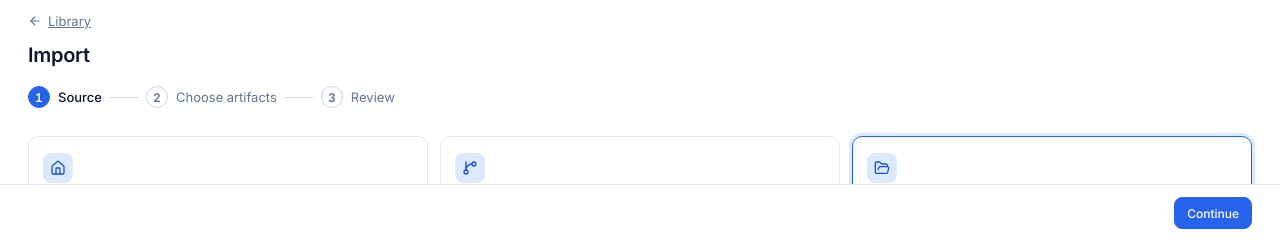
Scenario: Import preselection from the Drift tab › imports only the artifact named by ?select=
The width and height of the screenshot is (1280, 246).
What coordinates should you click on to do the following:
click the button "Continue"
I would click on:
 (1213, 213)
Its box is [1174,197,1252,229].
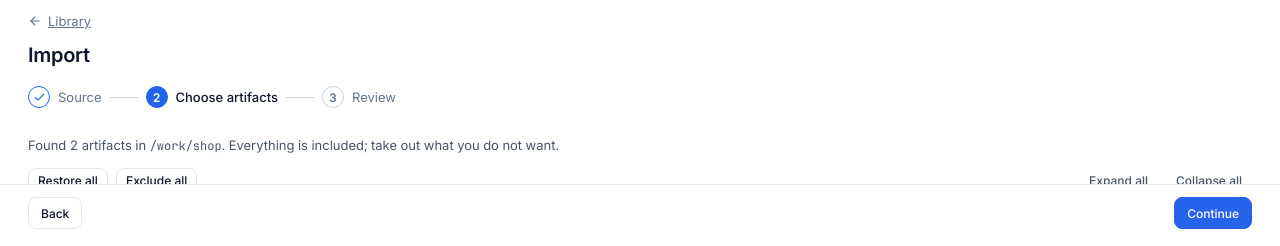
Expected: the text "Found 2 artifacts" is shown, [28,137,559,154]
What coordinates should you click on to do the following:
click the button "Continue"
I would click on:
 (1213, 213)
Its box is [1174,197,1252,229].
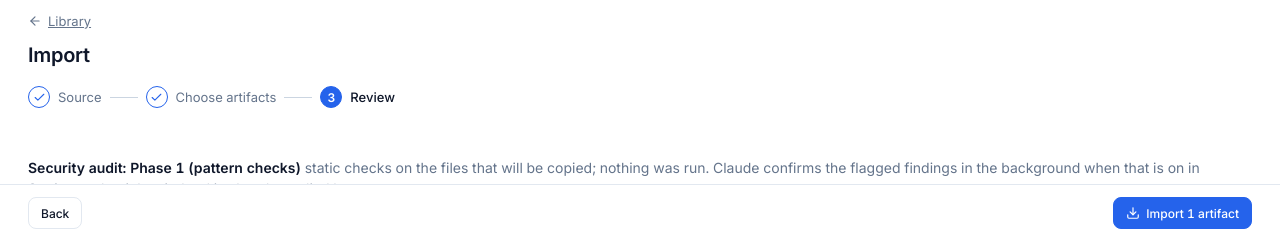
Expected: the button "Import 1 artifact" is enabled, [1113,197,1252,229]
